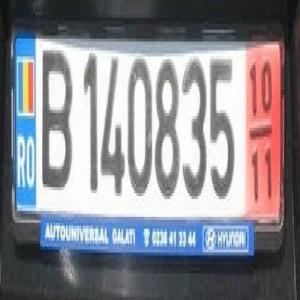Plate: (4, 5, 298, 296)
